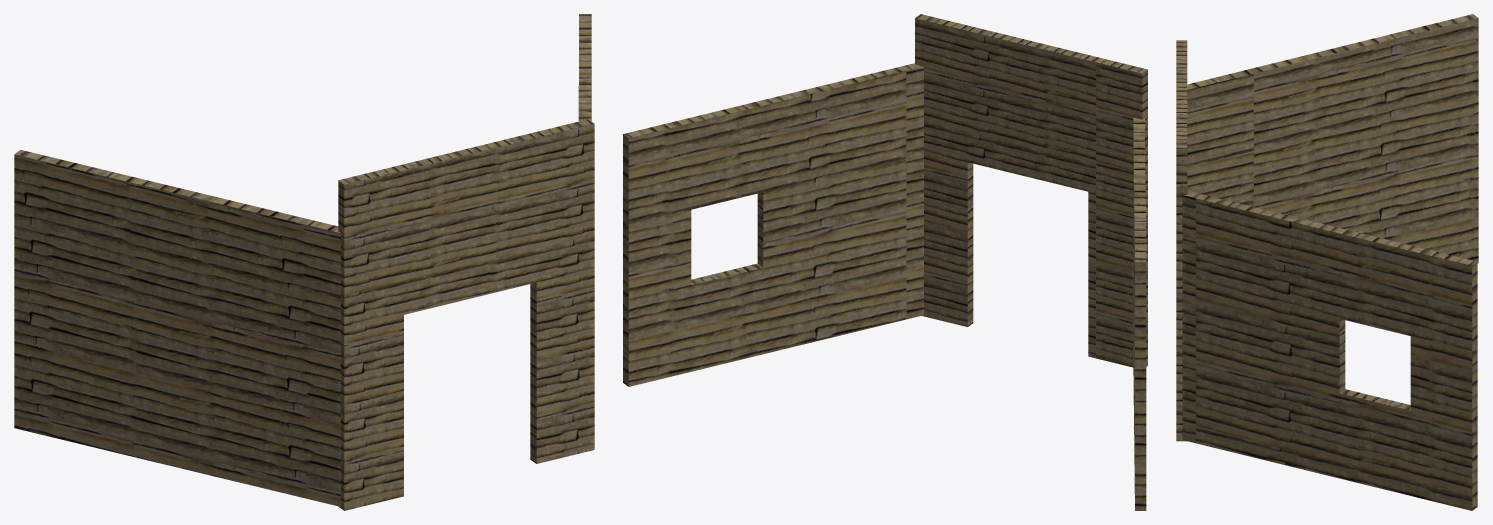
The model's file is building.fbx.
The picture shows the model from 3 angles, left to right: view 1: azimuth 30°, elevation 25°; view 2: azimuth 150°, elevation 25°; view 3: azimuth 270°, elevation 25°; orthographic projection. The views are drawn at different scales.
Visible parts, largest first — view 1: barFront; view 2: barFront; view 3: barFront.
Boxes of the visible parts, box(x1,y1,x2,y2) form: barFront: box(14, 14, 594, 510); barFront: box(623, 14, 1147, 510); barFront: box(1176, 14, 1478, 510).
Size of the model in its own units: 741 by 401 by 376.
